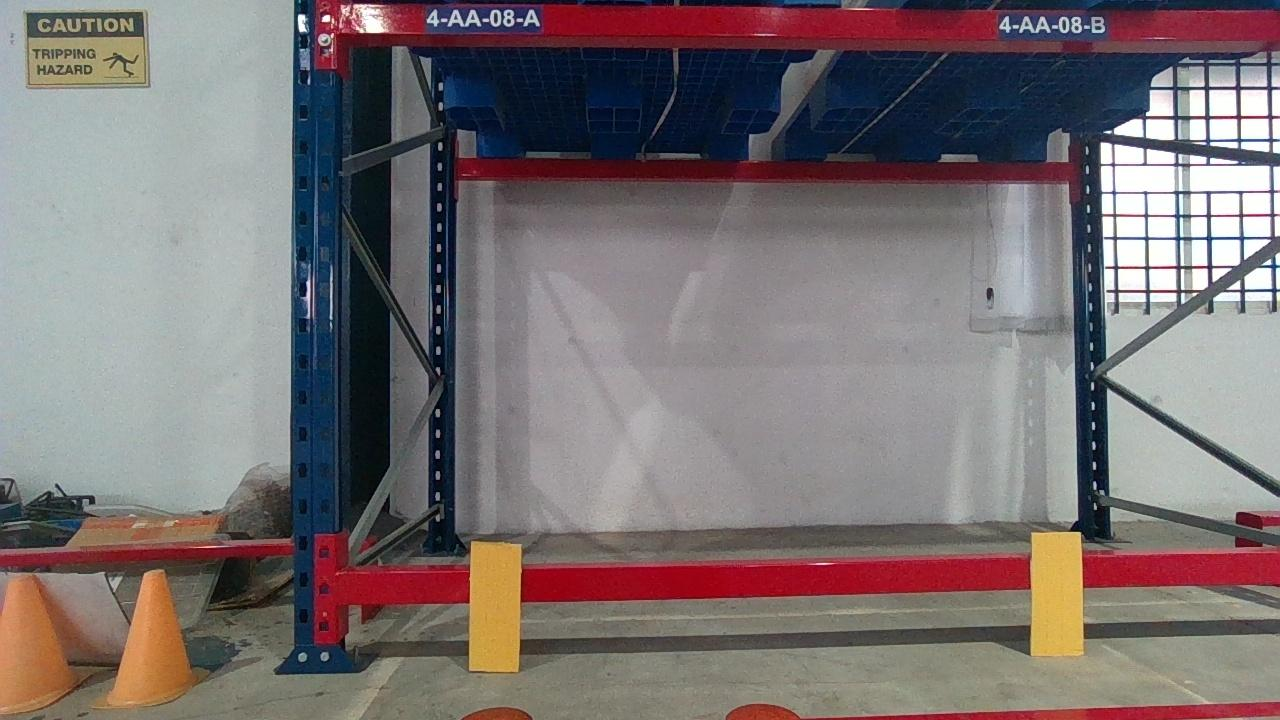h_rack: (339, 5, 1278, 48), (340, 558, 1035, 604)
orange_strip: (1029, 530, 1084, 653)
